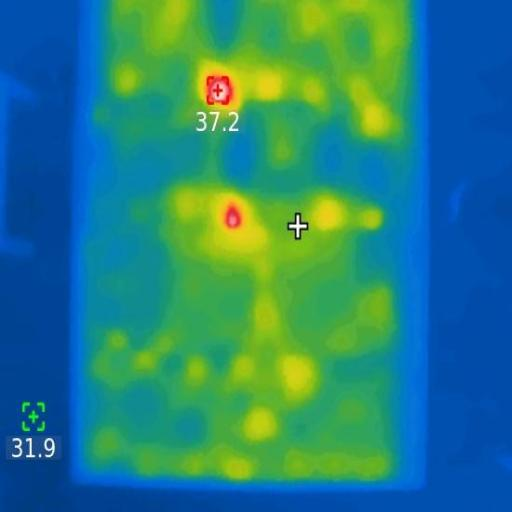hotspot: (204, 72, 234, 110), (220, 202, 245, 231)
